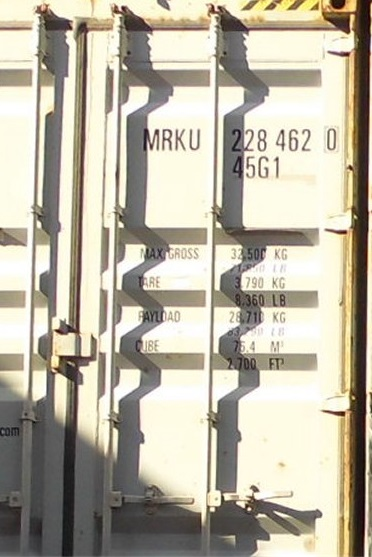container_door: (3, 1, 357, 553)
